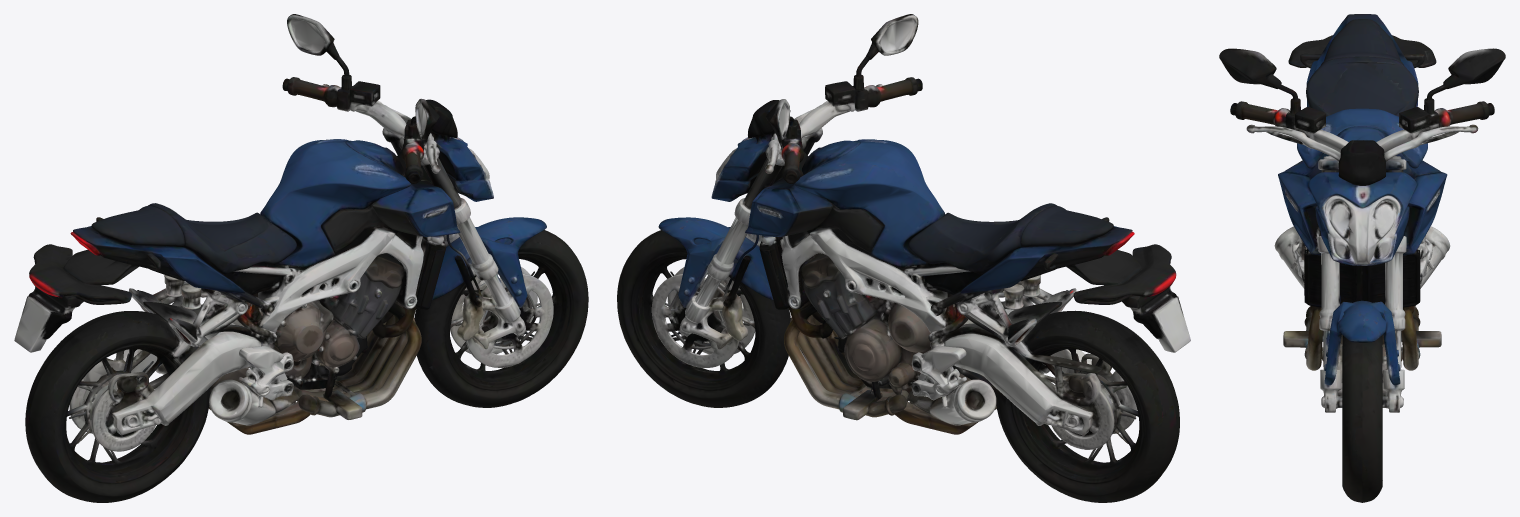
Rendered from motorcycle.glb.
3 renders of one model, left to right at view 1: azimuth 30°, elevation 25°; view 2: azimuth 150°, elevation 25°; view 3: azimuth 270°, elevation 25°, orthographic.
Parts seen in each view (by area): view 1: material; view 2: material; view 3: material.
Part boxes in pixels (<box>): material: <box>14,14,588,502</box>; material: <box>617,14,1190,502</box>; material: <box>1219,14,1505,502</box>.
Size of the model in its own units: 1.11 by 0.7105 by 0.4882.
1 material, 1 textured.
